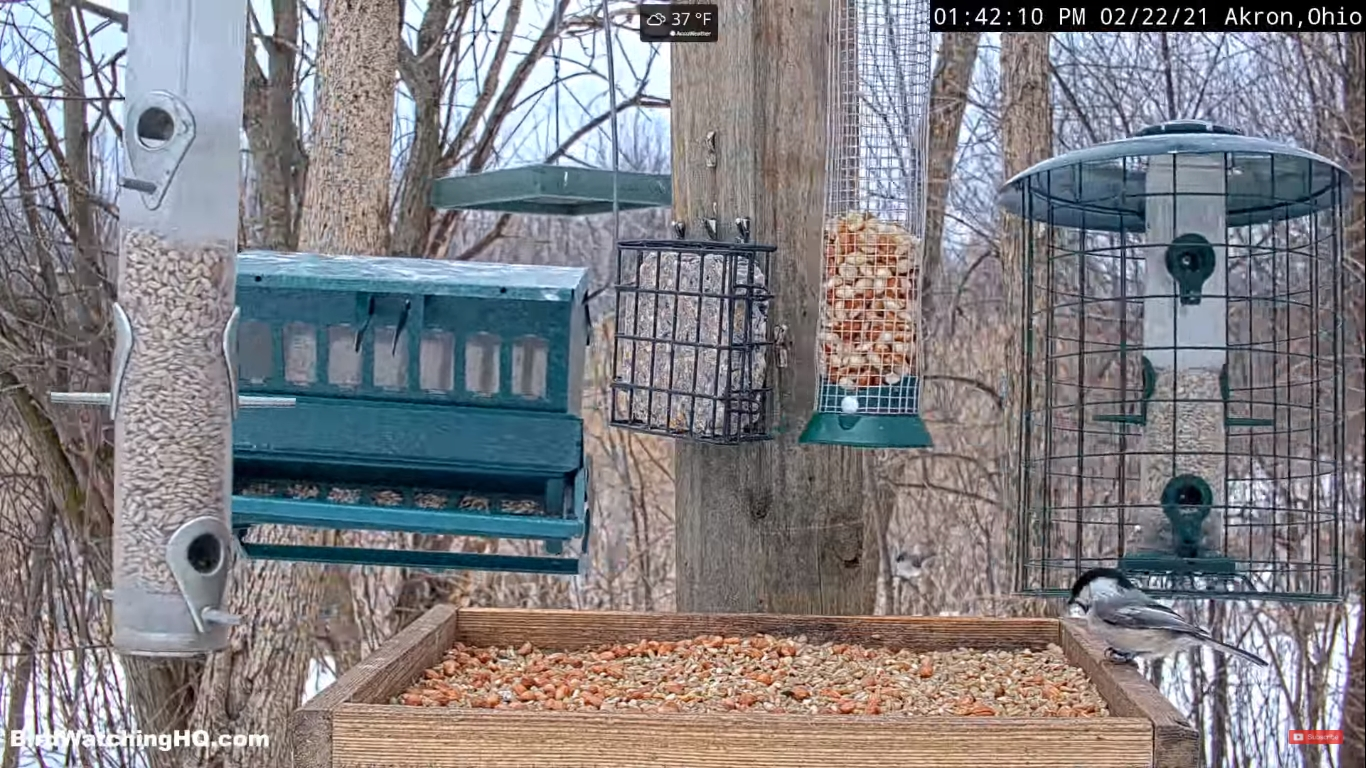bird: (1068, 567, 1268, 675)
